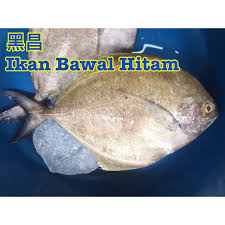Ikan Bawal: (10, 71, 218, 172)
